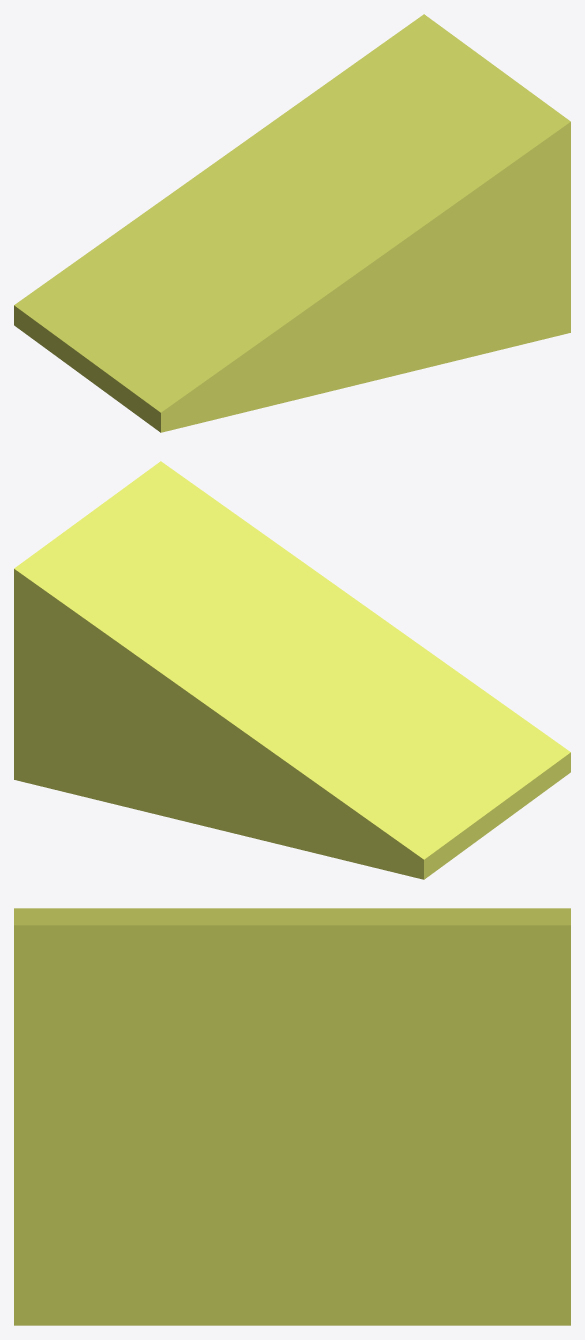
File: Inclined Obstacle.fbx
3 views of the same model, one above another, from view 1: azimuth 30°, elevation 25°; view 2: azimuth 150°, elevation 25°; view 3: azimuth 270°, elevation 25° (orthographic). The views are drawn at different scales.
Parts seen in each view (by area): view 1: Cube.003; view 2: Cube.003; view 3: Cube.003.
Boxes of the visible parts, bbox=[...] form: Cube.003: bbox=[14, 14, 570, 432]; Cube.003: bbox=[14, 461, 570, 879]; Cube.003: bbox=[14, 908, 570, 1325].
Size of the model in its own units: 10.76 by 5.29 by 6.67.
